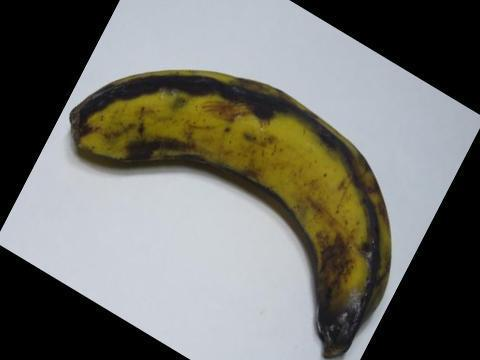overripe: (56, 56, 399, 359)
rotten: (296, 249, 391, 359)
